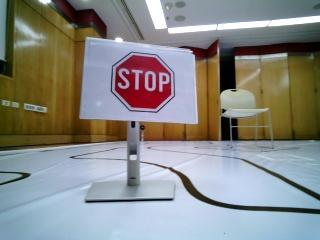stop: (89, 43, 192, 118)
